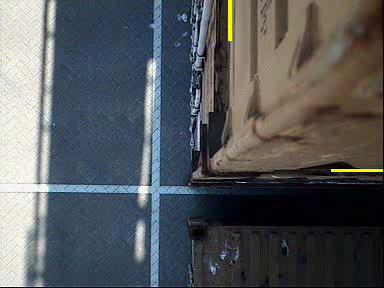groundmarker_2: (144, 125, 191, 162)
